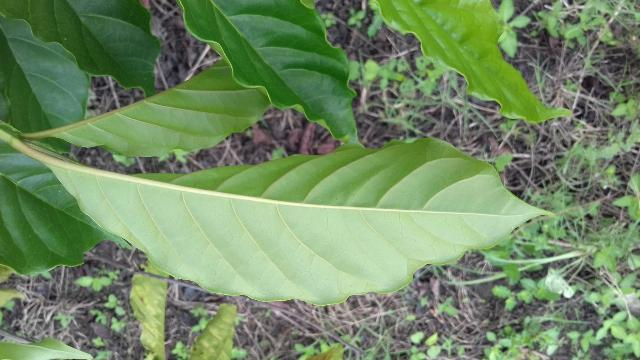healthy: (42, 132, 563, 309)
